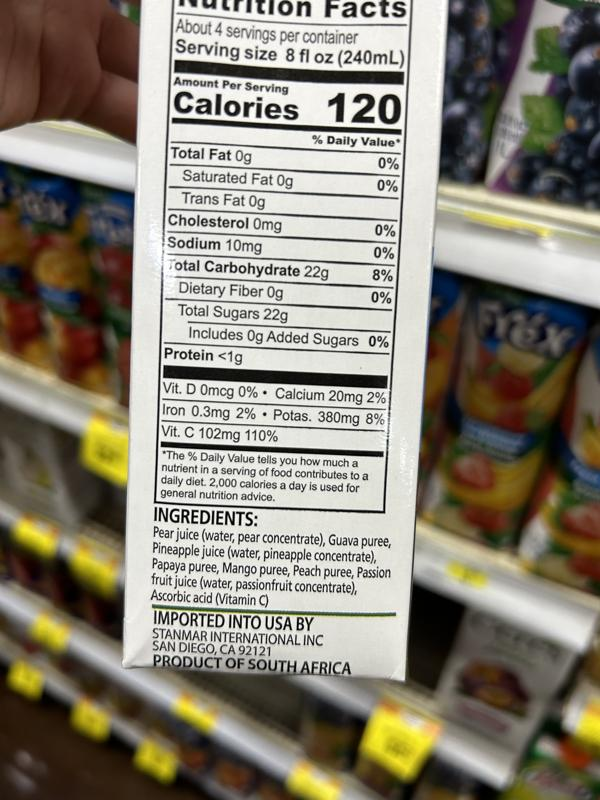ingredients: (149, 505, 395, 608)
